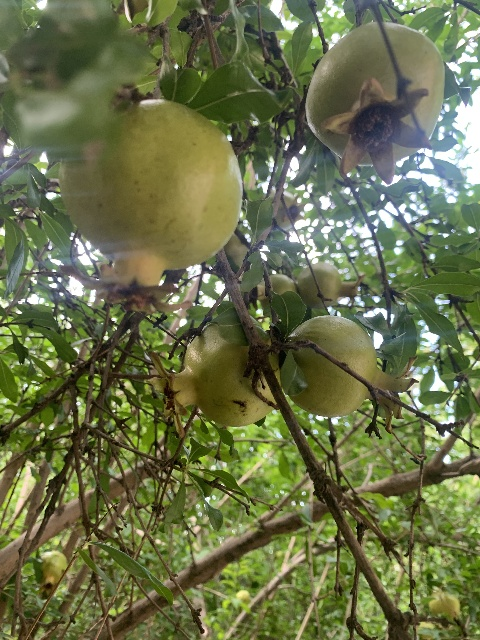mid-growth: (58, 99, 243, 314), (305, 21, 445, 185), (280, 315, 419, 434), (145, 323, 281, 437), (298, 261, 367, 310), (256, 273, 297, 309), (269, 189, 306, 228), (39, 550, 67, 595), (429, 591, 460, 629)
